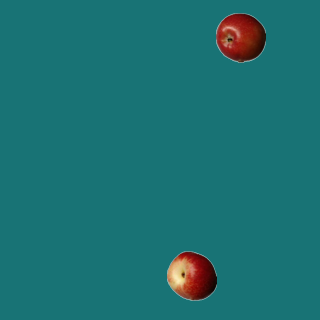Apple Braeburn: (215, 12, 265, 62)
Nectarine: (166, 250, 216, 300)
